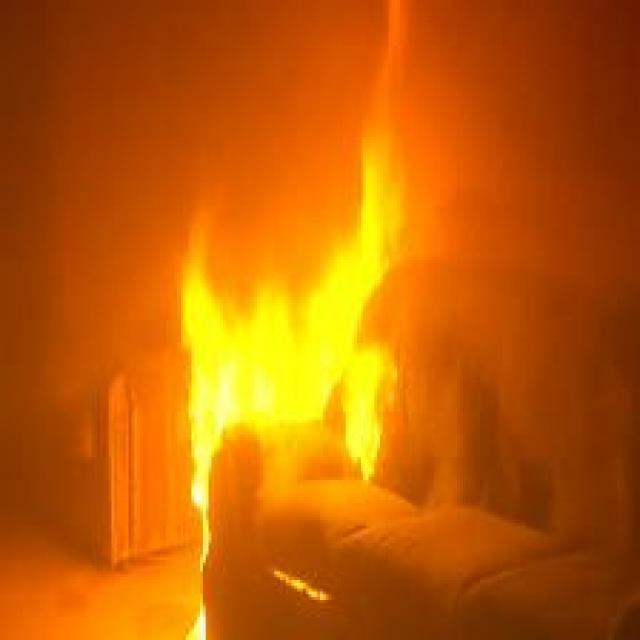Fire: (183, 0, 406, 640)
